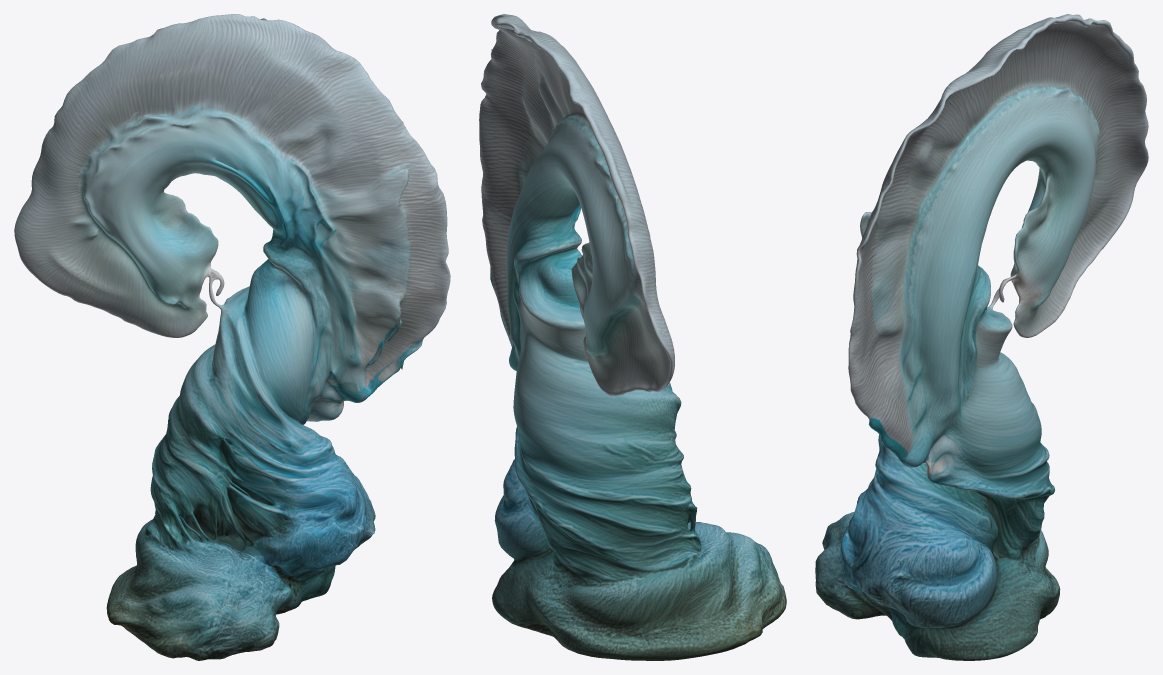
The model's file is category4.glb.
3 renders of one model, left to right at view 1: azimuth 30°, elevation 25°; view 2: azimuth 150°, elevation 25°; view 3: azimuth 270°, elevation 25°, orthographic. The views are drawn at different scales.
Parts seen in each view (by area): view 1: tripo_node_2ba1bd86; view 2: tripo_node_2ba1bd86; view 3: tripo_node_2ba1bd86.
Boxes of the visible parts, x1=… form: tripo_node_2ba1bd86: x1=14, y1=14, x2=450, y2=660; tripo_node_2ba1bd86: x1=479, y1=14, x2=786, y2=660; tripo_node_2ba1bd86: x1=815, y1=14, x2=1148, y2=660.
Bounding box in the file's own units: 0.5593 × 0.9742 × 0.4787.
1 material, 1 textured.
